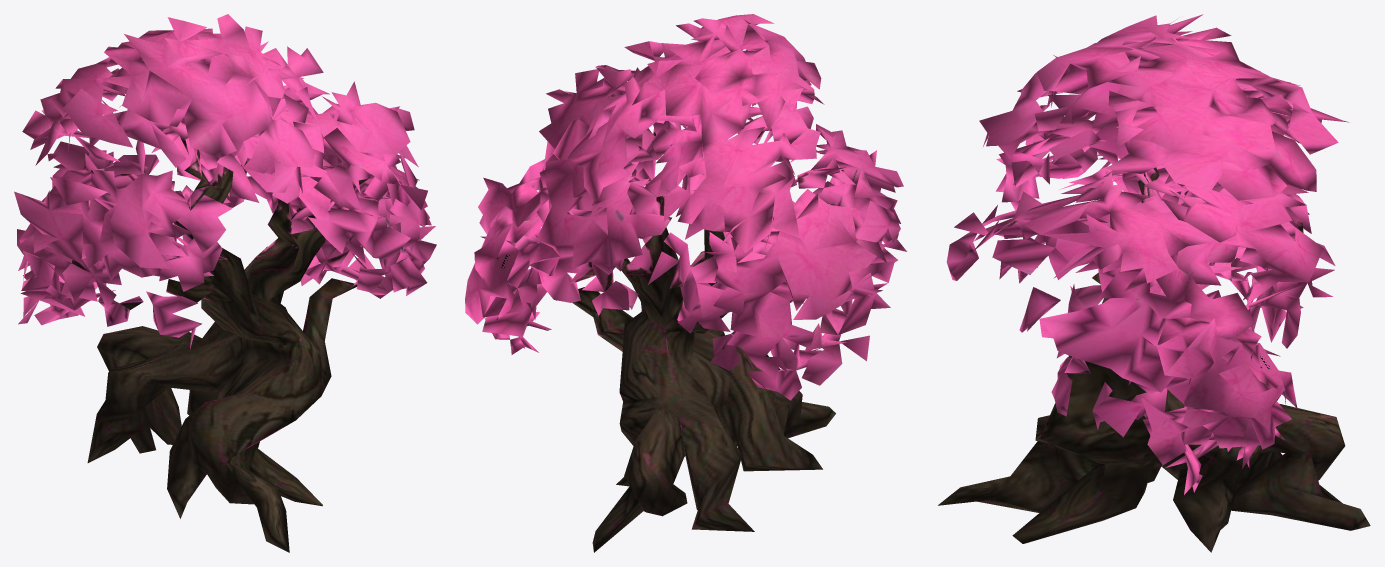
File: tree_blossom.glb
3 renders of one model, left to right at view 1: azimuth 30°, elevation 25°; view 2: azimuth 150°, elevation 25°; view 3: azimuth 270°, elevation 25°, orthographic. The views are drawn at different scales.
Visible parts, largest first — view 1: plant; view 2: plant; view 3: plant.
Boxes of the visible parts, x1,y1,x2,y2 form: plant: (14,14,436,552); plant: (465,14,906,552); plant: (938,14,1370,552).
Bounding box in the file's own units: 4.36 × 4.6 × 3.7.
Materials: 1 (1 with a texture image).
